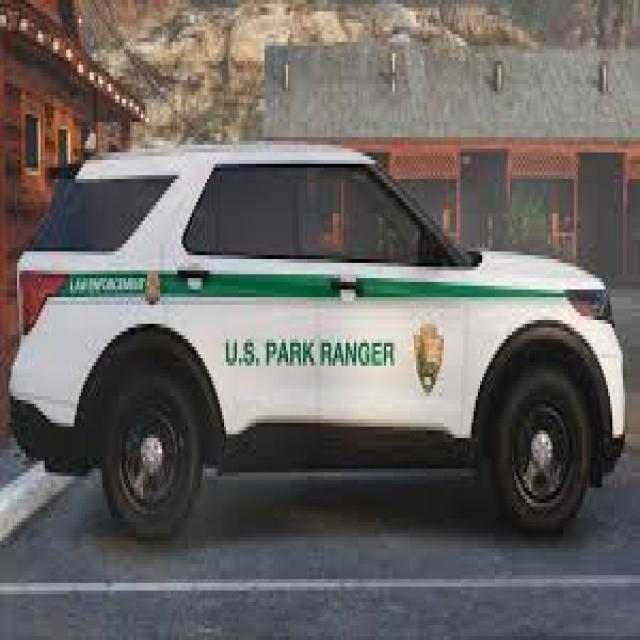cop: (14, 149, 628, 541)
